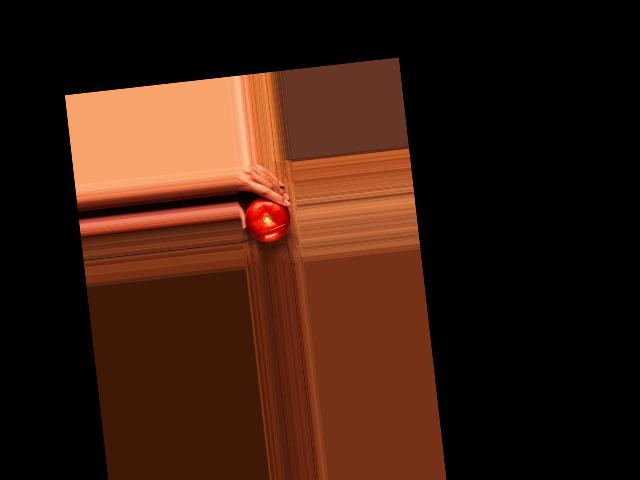tomato: (243, 194, 292, 243)
